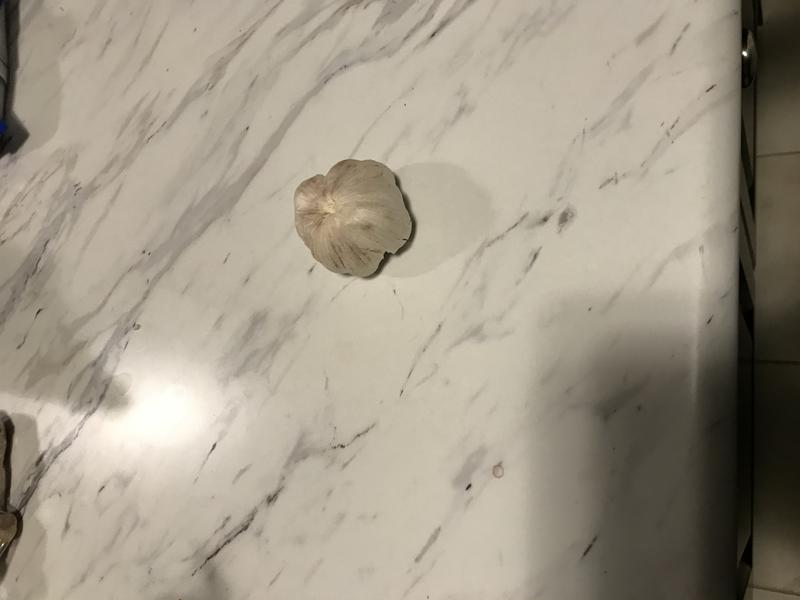garlic: (285, 148, 422, 293)
